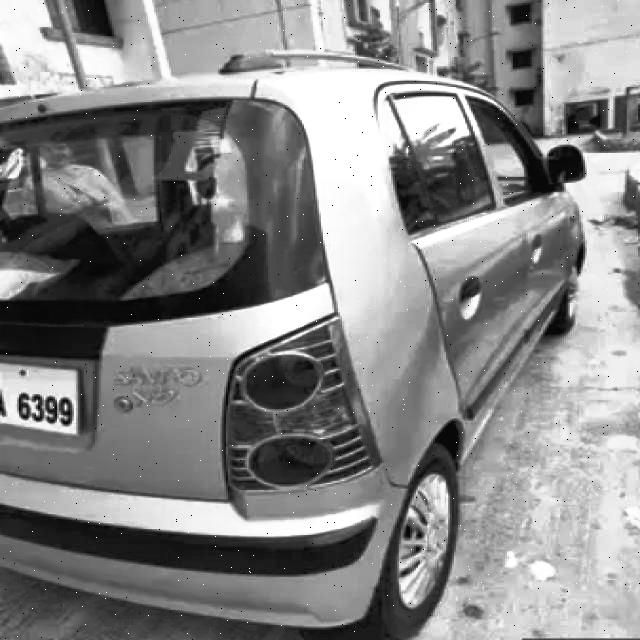Car: (15, 58, 603, 587)
